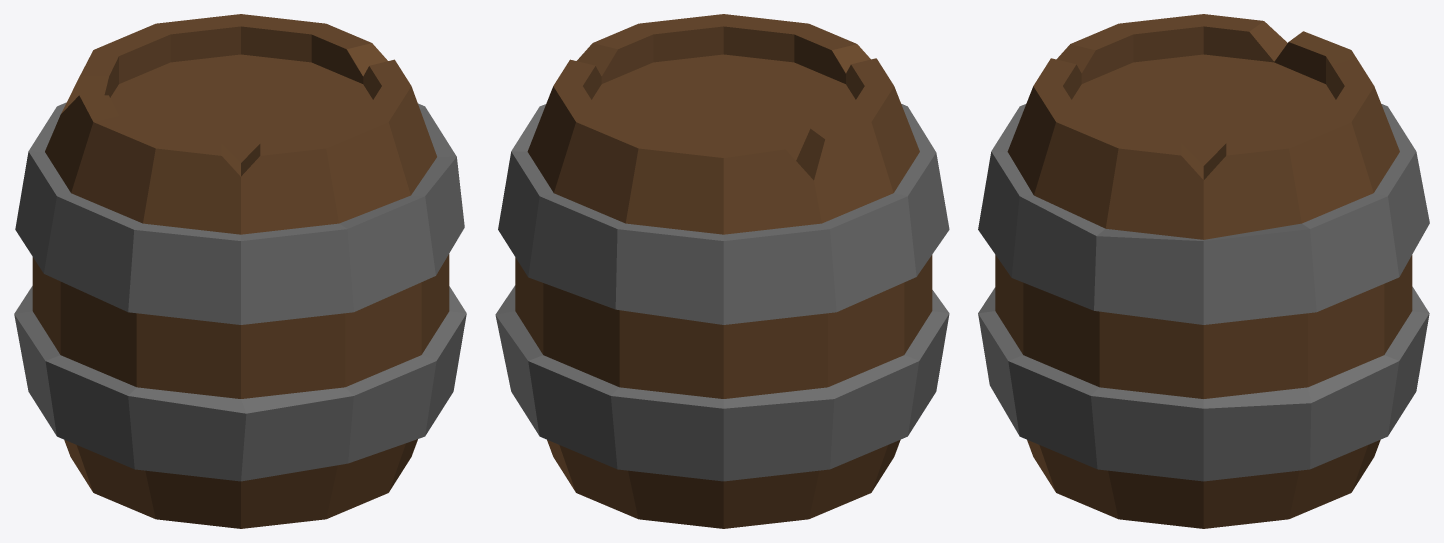
File: Barrell.fbx
3 views of the same model, side by side, from view 1: azimuth 30°, elevation 25°; view 2: azimuth 150°, elevation 25°; view 3: azimuth 270°, elevation 25° (orthographic).
Visible parts, largest first — view 1: barrel1; view 2: barrel1; view 3: barrel1.
Part boxes in pixels (x1=…): barrel1: x1=14, y1=14, x2=466, y2=528; barrel1: x1=495, y1=14, x2=949, y2=528; barrel1: x1=978, y1=14, x2=1429, y2=528.
Bounding box in the file's own units: 96.15 × 87.33 × 96.22.
